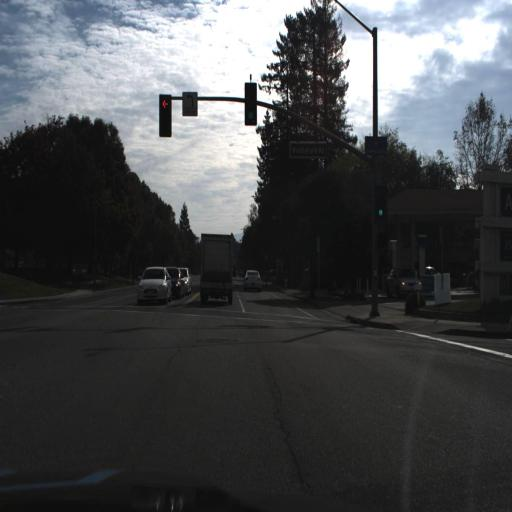car: (135, 264, 173, 305), (386, 265, 423, 296), (239, 265, 265, 295), (423, 260, 444, 295), (171, 264, 185, 304)
trafficLight-Green: (245, 84, 257, 125), (376, 192, 384, 219)
trafficLight-RedLeft: (159, 94, 170, 136)
truck: (196, 229, 236, 305)
